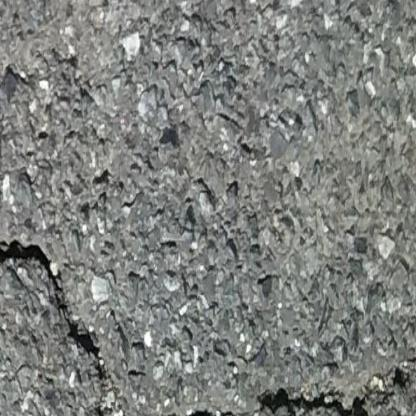Cracks: (0, 218, 108, 378), (252, 361, 416, 416), (130, 406, 263, 416), (88, 397, 127, 416)
